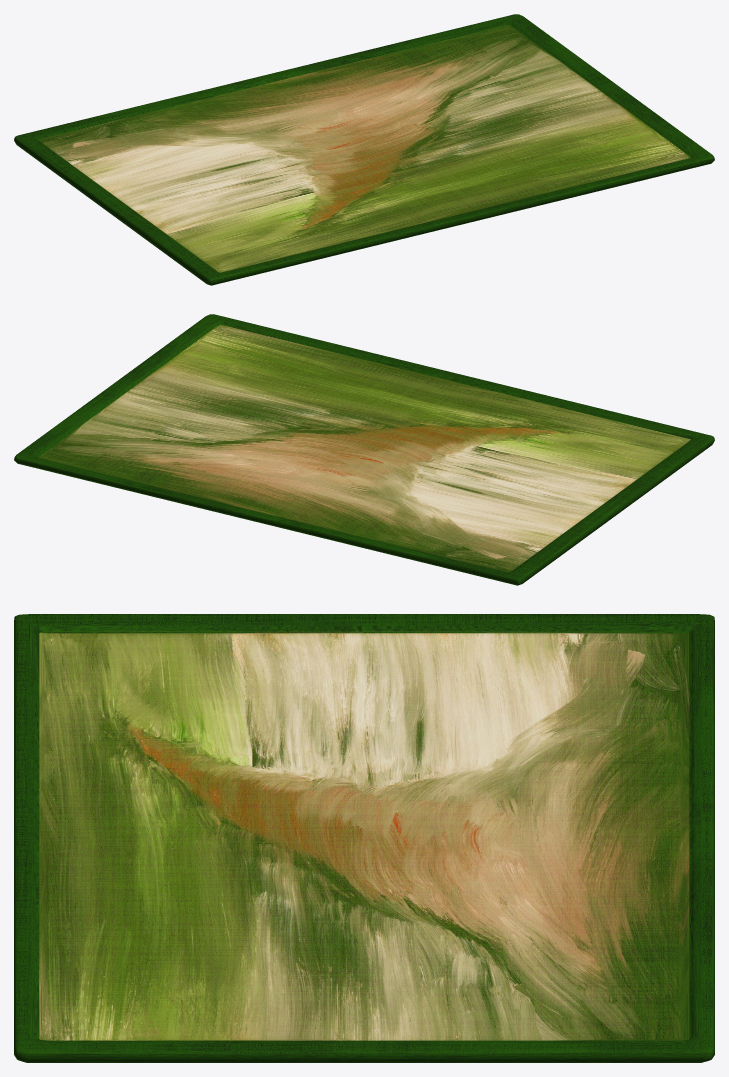
File: placemat3.fbx
3 renders of one model, top to bottom at view 1: azimuth 30°, elevation 25°; view 2: azimuth 150°, elevation 25°; view 3: azimuth 270°, elevation 25°, orthographic. The views are drawn at different scales.
Visible parts, largest first — view 1: pCube1; view 2: pCube1; view 3: pCube1.
Boxes of the visible parts, x1=… form: pCube1: x1=14, y1=14, x2=714, y2=285; pCube1: x1=14, y1=314, x2=714, y2=585; pCube1: x1=14, y1=614, x2=714, y2=1062.
Size of the model in its own units: 2.27 by 0.0311 by 1.53.
